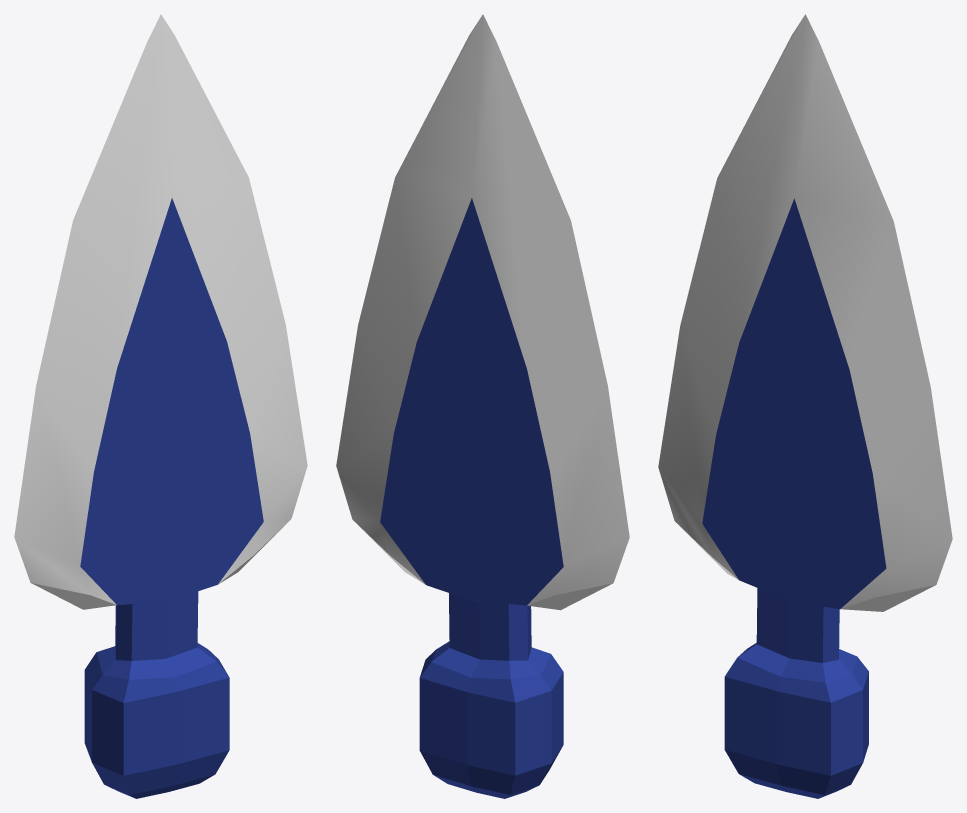
3 views of the same model, side by side, from view 1: azimuth 30°, elevation 25°; view 2: azimuth 150°, elevation 25°; view 3: azimuth 330°, elevation 25° (orthographic).
Visible parts, largest first — view 1: Line002, 对象001; view 2: Line002, 对象001; view 3: Line002, 对象001.
Part boxes in pixels (x1,y1,x2,y2): Line002: (14,14,307,609); 对象001: (80,198,263,798); Line002: (336,14,629,610); 对象001: (380,198,563,798); Line002: (658,14,952,611); 对象001: (702,198,886,798).
Size of the model in its own units: 176 by 439 by 47.28.
